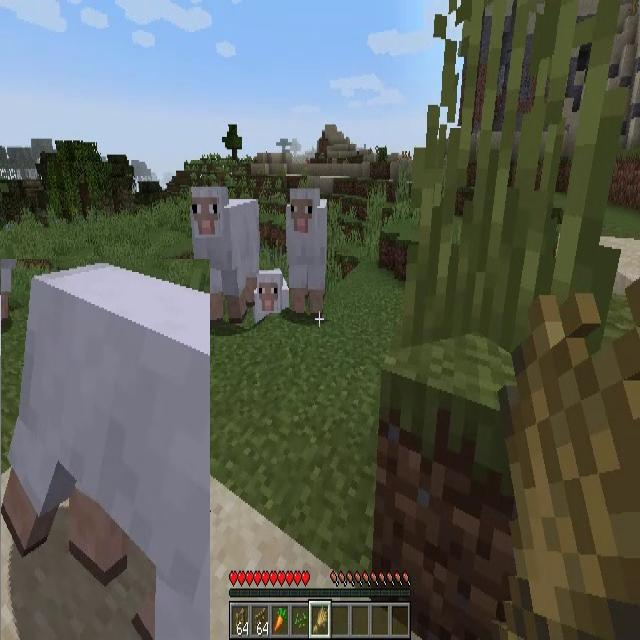sheep: (1, 259, 210, 640), (189, 187, 260, 324), (288, 191, 328, 309), (255, 264, 287, 326)
